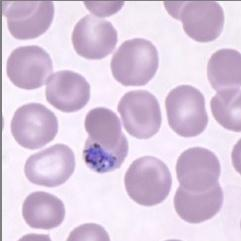Infected: (82, 132, 129, 174)
Uninfected: (173, 171, 224, 224), (110, 37, 159, 86), (166, 83, 208, 138), (25, 142, 76, 187), (125, 157, 171, 206), (11, 102, 58, 149), (175, 146, 222, 192), (70, 14, 117, 59), (118, 90, 162, 138), (6, 45, 52, 89), (207, 48, 241, 106), (7, 0, 55, 41), (181, 0, 224, 42), (47, 71, 90, 113), (21, 191, 67, 230), (85, 106, 122, 147), (210, 87, 241, 132)
